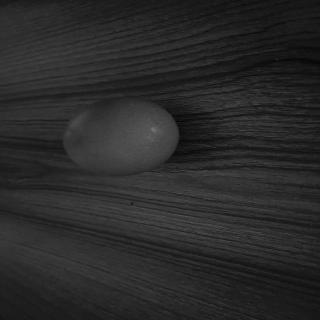Telur: (62, 95, 186, 179)
